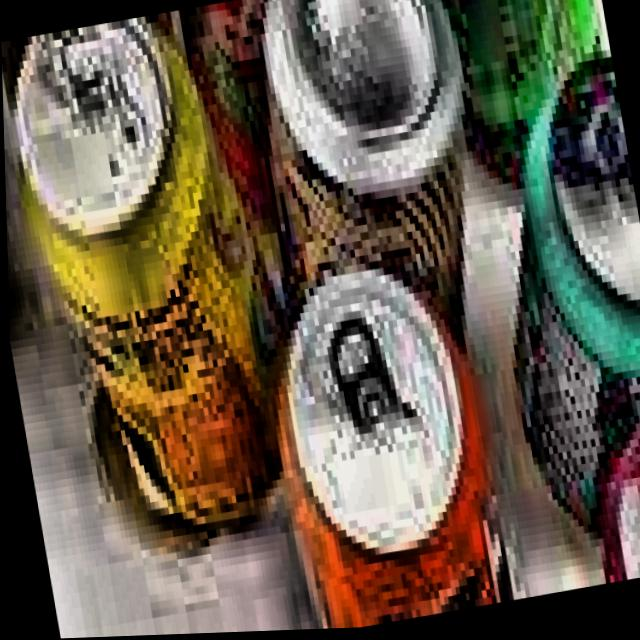metal: (0, 0, 319, 564), (225, 0, 520, 388), (239, 239, 523, 633), (446, 30, 640, 557), (174, 0, 403, 246), (406, 0, 631, 221), (0, 10, 202, 133)
